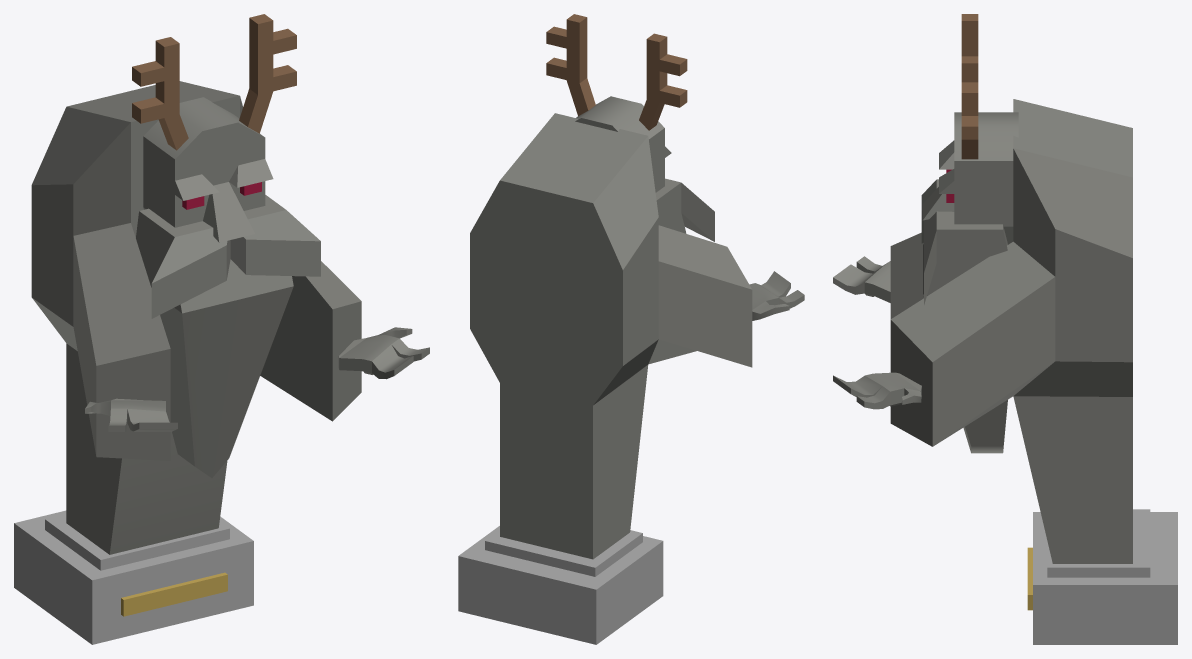
File: ChurchStatueSilvanus.fbx
3 renders of one model, left to right at view 1: azimuth 30°, elevation 25°; view 2: azimuth 150°, elevation 25°; view 3: azimuth 270°, elevation 25°, orthographic. The views are drawn at different scales.
Visible parts, largest first — view 1: polySurface165; view 2: polySurface165; view 3: polySurface165.
Part boxes in pixels (box(x1,y1,x2,y2)): polySurface165: box(14, 14, 429, 644); polySurface165: box(458, 14, 804, 644); polySurface165: box(833, 14, 1177, 644).
Bounding box in the file's own units: 0.6449 × 1.16 × 0.6344.
